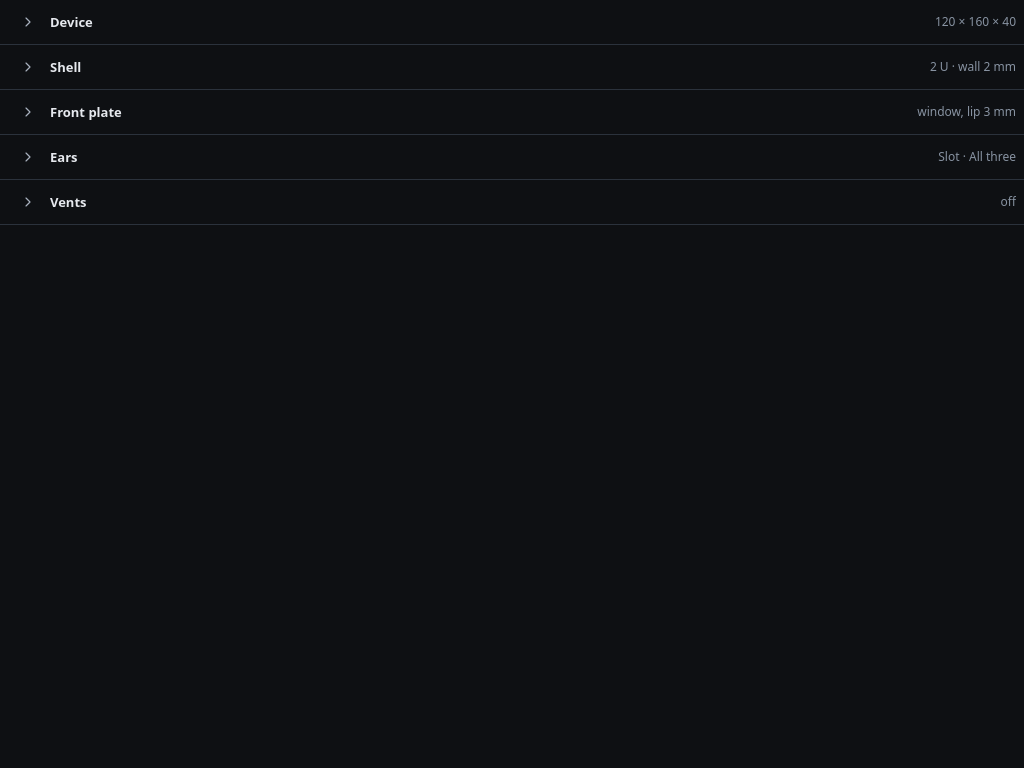
Test: CasePanel › передняя панель: окно по умолчанию включено, два блока с заголовками, слова «кабель» нет
The width and height of the screenshot is (1024, 768).
Click the button named "Expand: Front plate".
click(28, 112)  # box [12, 96, 44, 128]
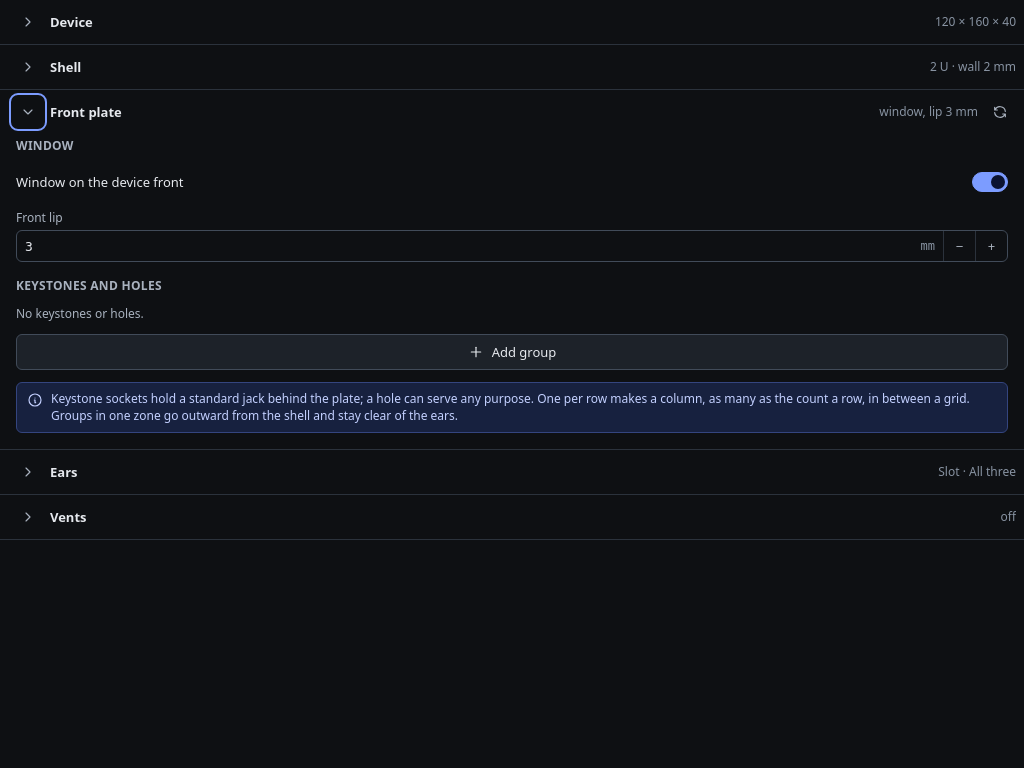
Expected: the switch named "Window on the device front" is checked, [972, 172, 1008, 192]
Expected: the heading "Window" is shown, [16, 137, 74, 154]
Expected: the heading "Keystones and holes" is shown, [16, 277, 162, 294]
